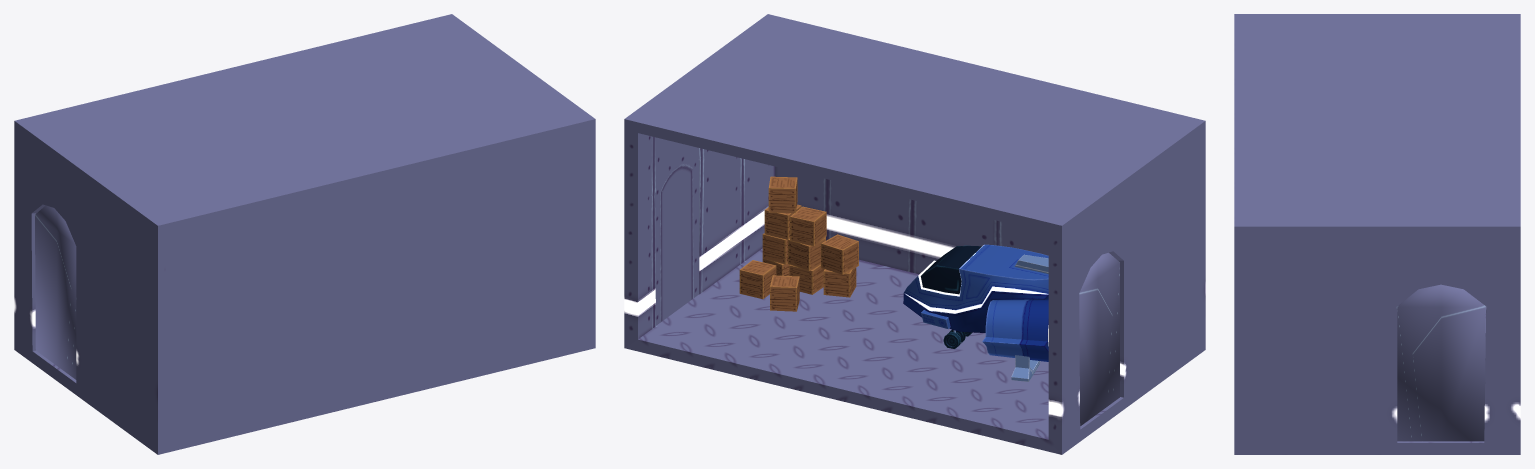
The model's file is complex_cosmodrome (1).fbx.
The picture shows the model from 3 angles, left to right: view 1: azimuth 30°, elevation 25°; view 2: azimuth 150°, elevation 25°; view 3: azimuth 270°, elevation 25°; orthographic projection.
Parts seen in each view (by area): view 1: base, base.004; view 2: base, ship, Cube.004, base.003, base.004; view 3: base, base.003.
Boxes of the visible parts, x1,y1,x2,y2 form: base: [14, 14, 595, 454]; base.004: [35, 205, 76, 379]; base: [624, 14, 1205, 454]; ship: [903, 244, 1048, 381]; Cube.004: [739, 176, 858, 311]; base.003: [655, 152, 699, 325]; base.004: [1079, 252, 1119, 425]; base: [1234, 14, 1520, 454]; base.003: [1397, 284, 1485, 441].
Bounding box in the file's own units: 1200 × 600 × 682.
